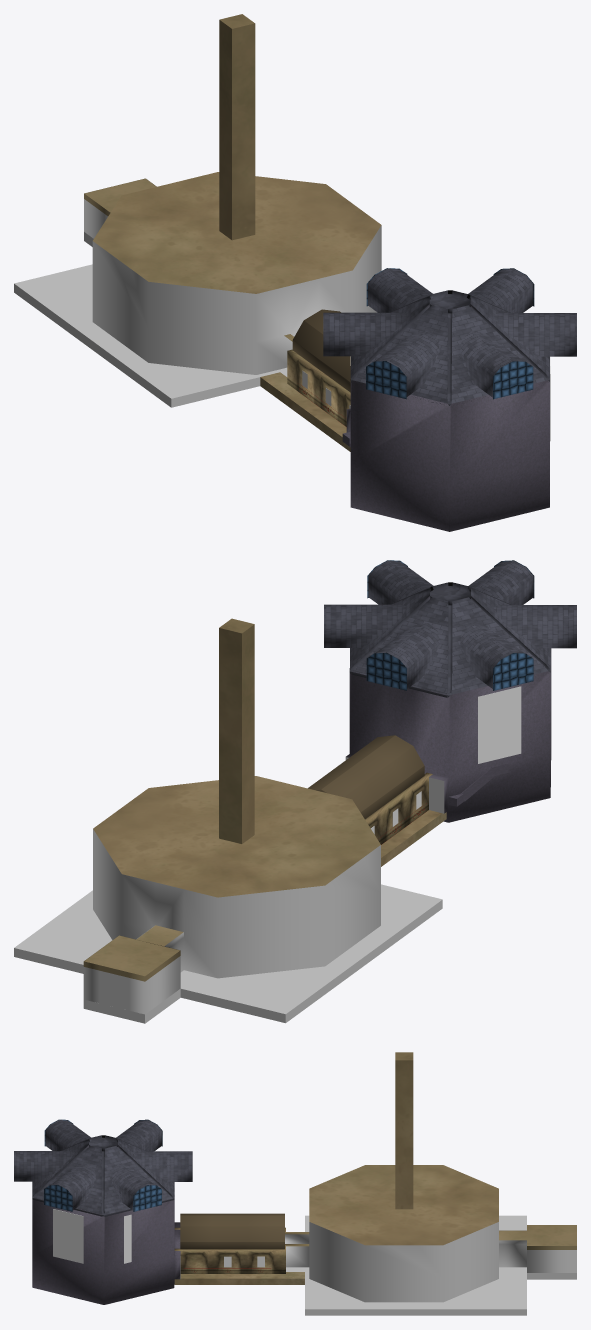
Rendered from Boss_Map_5 (1).fbx.
3 renders of one model, top to bottom at view 1: azimuth 30°, elevation 25°; view 2: azimuth 150°, elevation 25°; view 3: azimuth 270°, elevation 25°, orthographic. The views are drawn at different scales.
Visible parts, largest first — view 1: Roof_1, Boss Room, Main Walls, Roof, Main Floor, Passage Walls, Passage Roof, Passage Floors, Boss Room.004, Boss Room.005, Room_2; view 2: Roof_1, Main Walls, Roof, Boss Room, Main Floor, Passage Roof, Cube.014, Room_2, Passage Walls, Passage Floors, Boss Room.007, Boss Room.003 (+2 smaller); view 3: Roof_1, Main Walls, Boss Room, Roof, Main Floor, Passage Roof, Passage Walls, Cube.011, Passage Floors, Room_2, Boss Room.006, Boss Room.002 (+2 smaller).
Boxes of the visible parts, x1,y1,x2,y2 form: Roof_1: [93, 14, 381, 293]; Boss Room: [346, 290, 549, 531]; Main Walls: [84, 178, 381, 374]; Roof: [323, 268, 576, 403]; Main Floor: [14, 264, 287, 407]; Passage Walls: [284, 334, 350, 426]; Passage Roof: [292, 309, 350, 392]; Passage Floors: [260, 372, 350, 451]; Boss Room.004: [493, 361, 533, 399]; Boss Room.005: [366, 361, 406, 399]; Room_2: [84, 178, 156, 212]; Roof_1: [93, 618, 380, 897]; Main Walls: [83, 829, 380, 1014]; Roof: [324, 561, 576, 694]; Boss Room: [346, 582, 551, 822]; Main Floor: [14, 884, 442, 1023]; Passage Roof: [308, 735, 424, 818]; Cube.014: [478, 686, 521, 763]; Room_2: [84, 925, 183, 976]; Passage Walls: [365, 772, 432, 844]; Passage Floors: [381, 810, 446, 866]; Boss Room.007: [493, 653, 533, 690]; Boss Room.003: [366, 652, 406, 690]; Roof_1: [309, 1052, 498, 1245]; Main Walls: [285, 1222, 576, 1302]; Boss Room: [32, 1135, 180, 1304]; Roof: [14, 1120, 192, 1214]; Main Floor: [286, 1215, 526, 1315]; Passage Roof: [180, 1213, 284, 1249]; Passage Walls: [174, 1227, 309, 1273]; Cube.011: [53, 1209, 83, 1263]; Passage Floors: [174, 1272, 304, 1284]; Room_2: [499, 1225, 576, 1245]; Boss Room.006: [133, 1185, 161, 1211]; Boss Room.002: [44, 1185, 72, 1211].
Bounding box in the file's own units: 3101 × 3320 × 7869.
